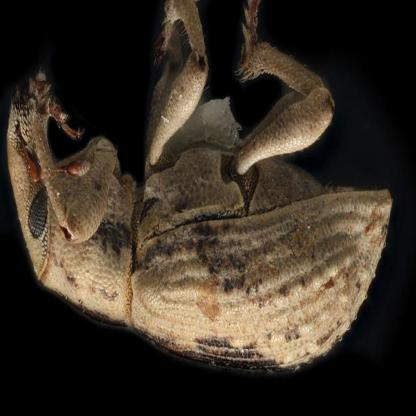rice-bug: (0, 0, 393, 367)
